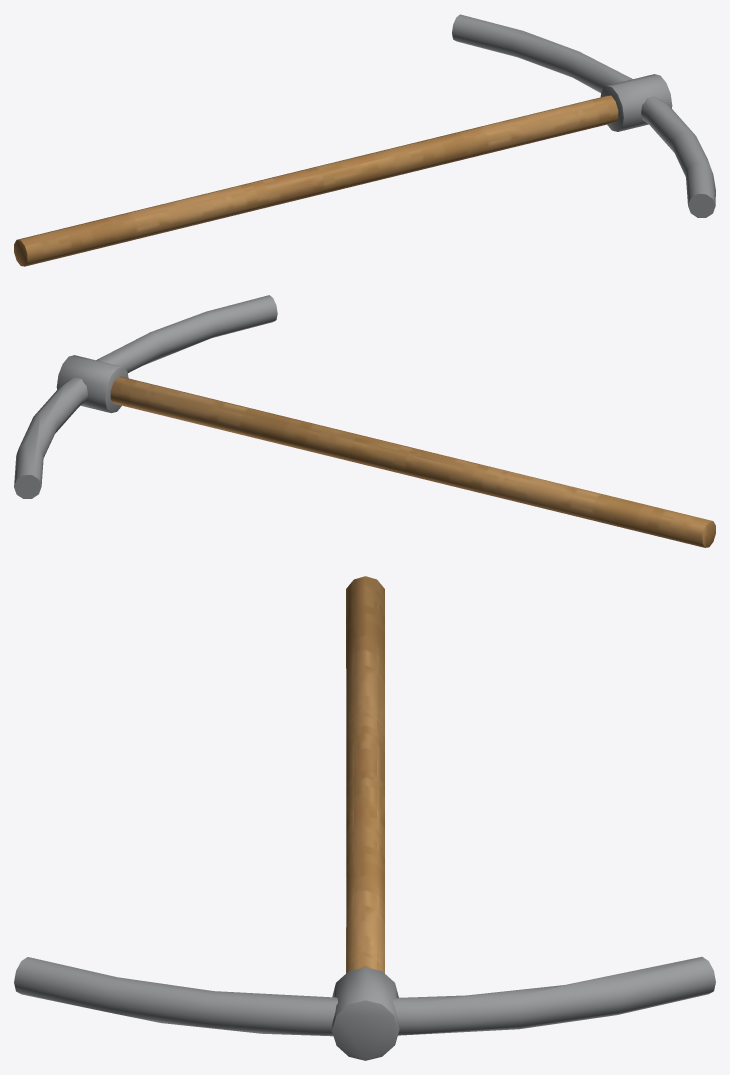
Rendered from EQP-MAO-005_lod1.glb.
The picture shows the model from 3 angles, top to bottom: view 1: azimuth 30°, elevation 25°; view 2: azimuth 150°, elevation 25°; view 3: azimuth 270°, elevation 25°; orthographic projection. The views are drawn at different scales.
Visible parts, largest first — view 1: EQP-MAO-005_cabo, EQP-MAO-005_cabeca, EQP-MAO-005_olho; view 2: EQP-MAO-005_cabo, EQP-MAO-005_cabeca, EQP-MAO-005_olho; view 3: EQP-MAO-005_cabeca, EQP-MAO-005_cabo, EQP-MAO-005_olho.
Part boxes in pixels (x1,y1,x2,y2): EQP-MAO-005_cabo: (14,95,618,266); EQP-MAO-005_cabeca: (452,14,715,217); EQP-MAO-005_olho: (600,74,672,131); EQP-MAO-005_cabo: (110,376,715,547); EQP-MAO-005_cabeca: (14,295,277,498); EQP-MAO-005_olho: (56,355,128,413); EQP-MAO-005_cabeca: (14,957,715,1036); EQP-MAO-005_cabo: (346,576,384,973); EQP-MAO-005_olho: (331,967,399,1060).
Bounding box in the file's own units: 0.91 × 0.06 × 0.6176.
2 materials, 1 textured.
